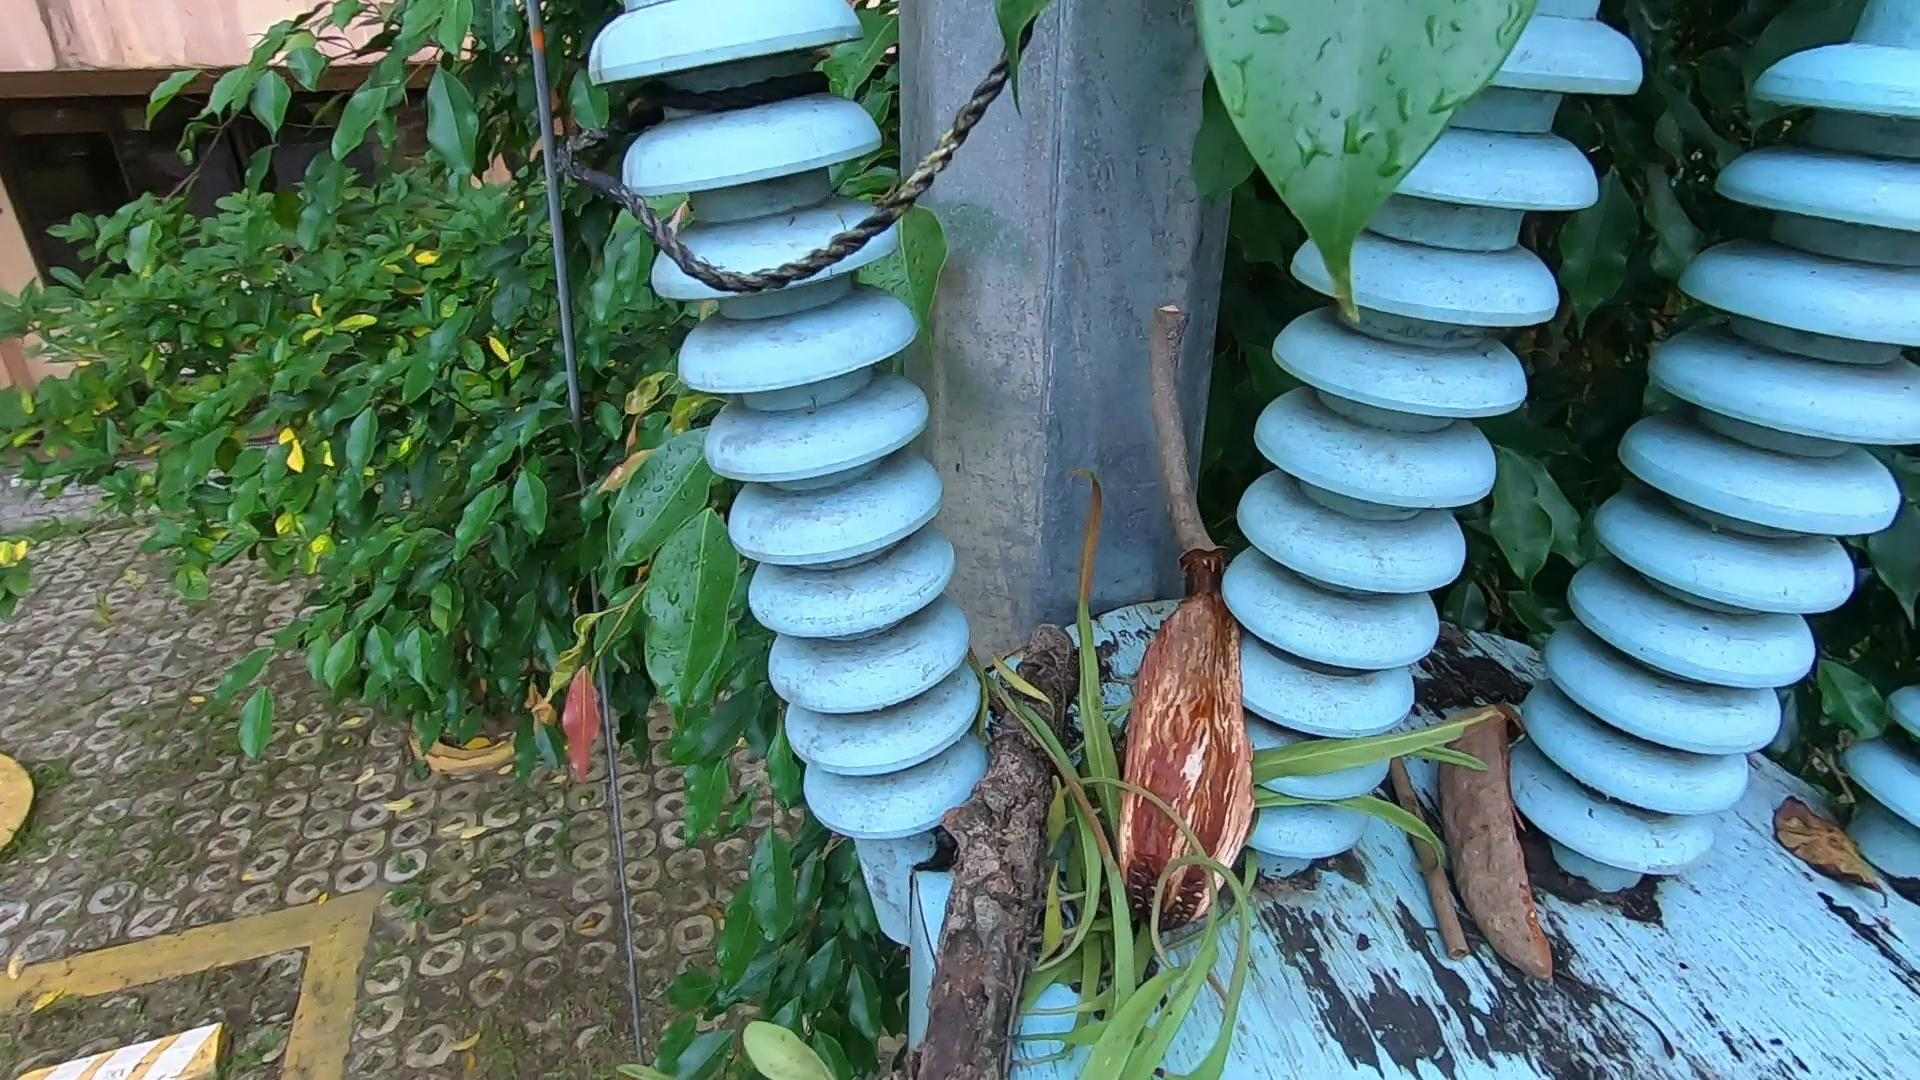branch with leaves: (878, 487, 1480, 1080)
leaf: (1764, 790, 1898, 907)
mahogany fruit: (1118, 556, 1283, 976), (1428, 684, 1607, 1007)
tree branch: (1143, 290, 1220, 574), (1389, 724, 1480, 955)
